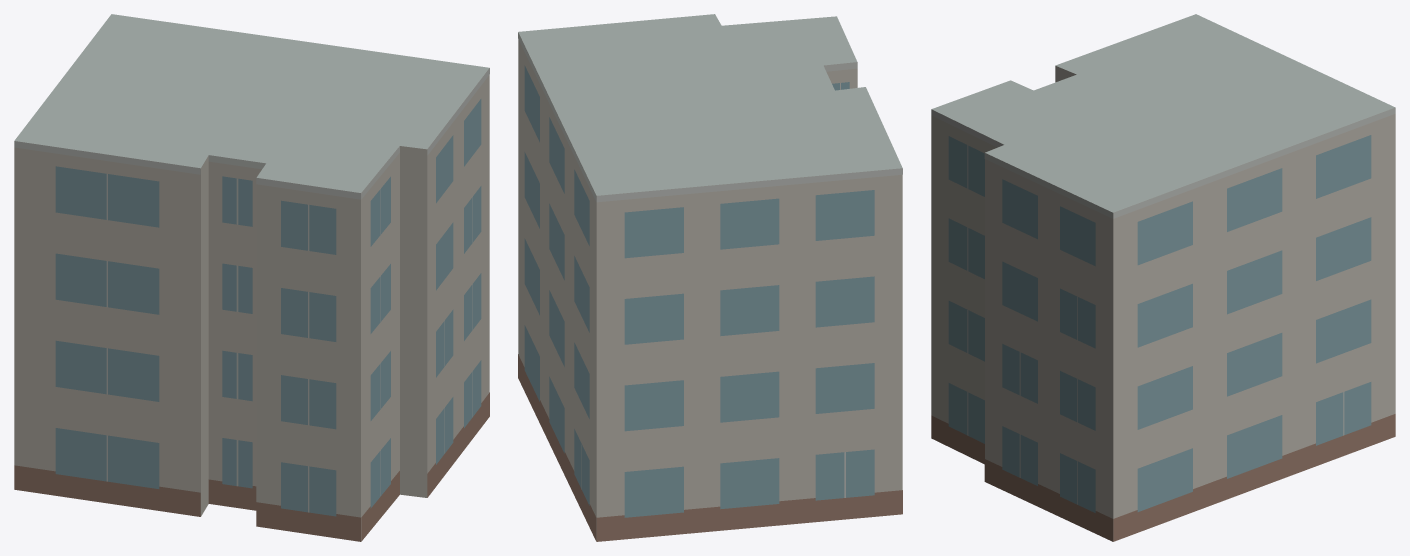
File: survey-upis-32947431.glb
3 views of the same model, side by side, from view 1: azimuth 30°, elevation 25°; view 2: azimuth 150°, elevation 25°; view 3: azimuth 270°, elevation 25° (orthographic). The views are drawn at different scales.
Visible parts, largest first — view 1: survey-upis-32947431.tmp; view 2: survey-upis-32947431.tmp; view 3: survey-upis-32947431.tmp.
Part boxes in pixels (box(x1,y1,x2,y2)): survey-upis-32947431.tmp: box(14, 14, 489, 541); survey-upis-32947431.tmp: box(518, 14, 902, 541); survey-upis-32947431.tmp: box(931, 14, 1395, 541).
Size of the model in its own units: 16.84 by 13 by 16.63.
